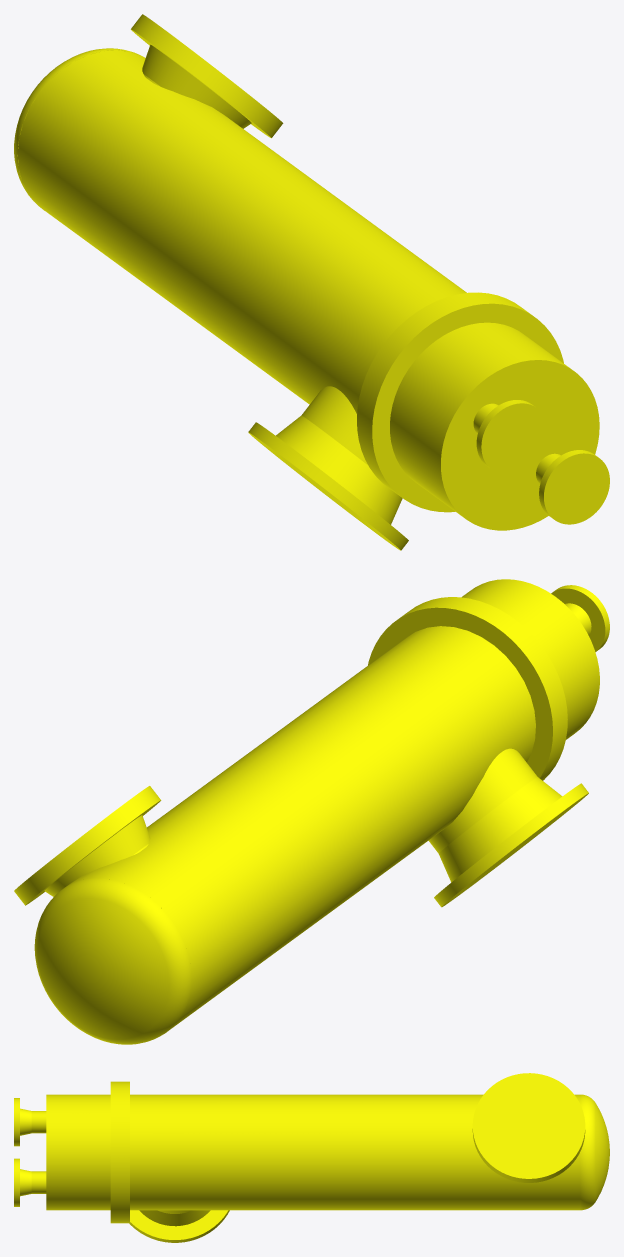
The model's file is (SBS) vessel.glb.
3 renders of one model, top to bottom at view 1: azimuth 30°, elevation 25°; view 2: azimuth 150°, elevation 25°; view 3: azimuth 270°, elevation 25°, orthographic. The views are drawn at different scales.
Parts seen in each view (by area): view 1: Solid2 (×8); view 2: Solid2 (×7); view 3: Solid2 (×8).
Part boxes in pixels (x1,y1,x2,y2): Solid2 (×8): (14,14,609,550); Solid2 (×7): (14,579,609,1044); Solid2 (×8): (14,1073,609,1242).
Size of the model in its own units: 0.8124 by 0.8124 by 2.35.
